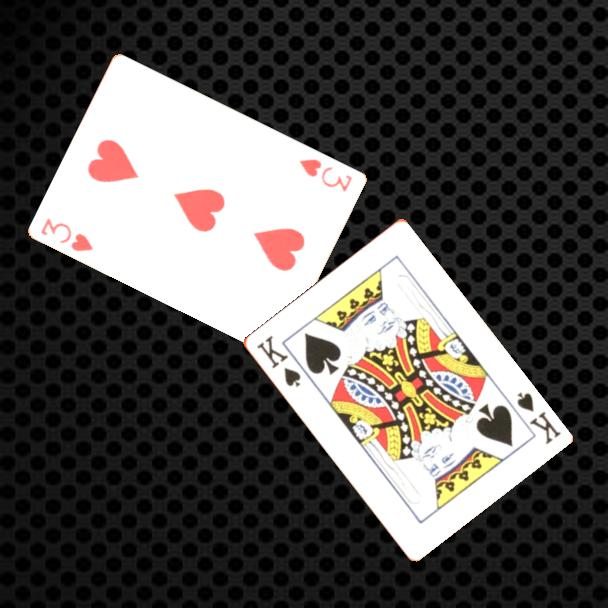h03: (37, 214, 97, 254), (296, 155, 355, 195)
s13: (513, 388, 564, 447), (253, 332, 303, 390)
